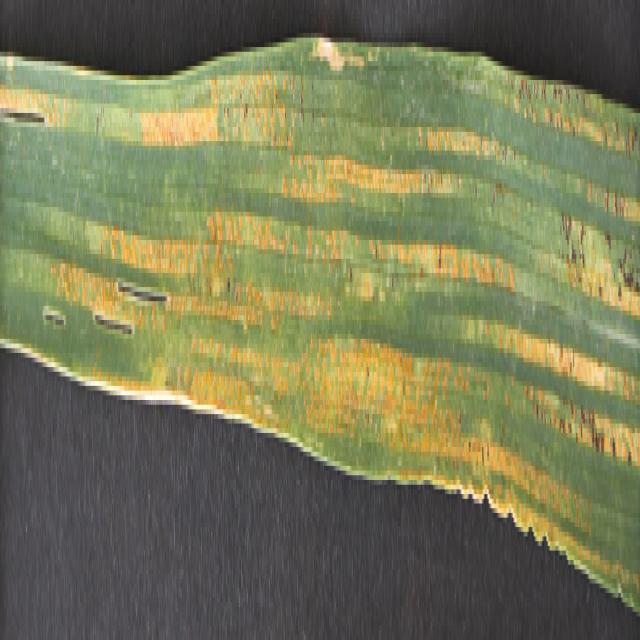leaf rust: (6, 4, 638, 550)
